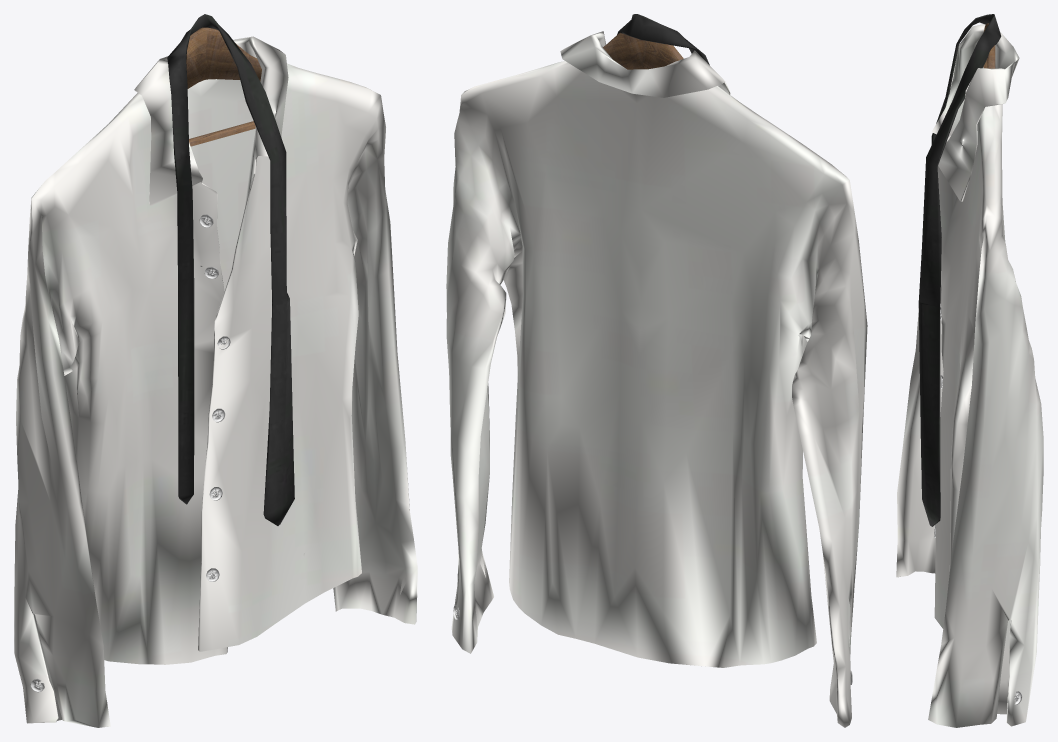
Rendered from hvtop_shirt_023.glb.
The picture shows the model from 3 angles, left to right: view 1: azimuth 30°, elevation 25°; view 2: azimuth 150°, elevation 25°; view 3: azimuth 270°, elevation 25°; orthographic projection. The views are drawn at different scales.
Visible parts, largest first — view 1: shirt_023_StaticMeshComponent0; view 2: shirt_023_StaticMeshComponent0; view 3: shirt_023_StaticMeshComponent0.
Part boxes in pixels (x1,y1,x2,y2): shirt_023_StaticMeshComponent0: (14, 14, 417, 727); shirt_023_StaticMeshComponent0: (446, 14, 867, 727); shirt_023_StaticMeshComponent0: (896, 14, 1043, 727).
Bounding box in the file's own units: 0.488 × 0.7924 × 0.1644.
Materials: 4 (3 with a texture image).
